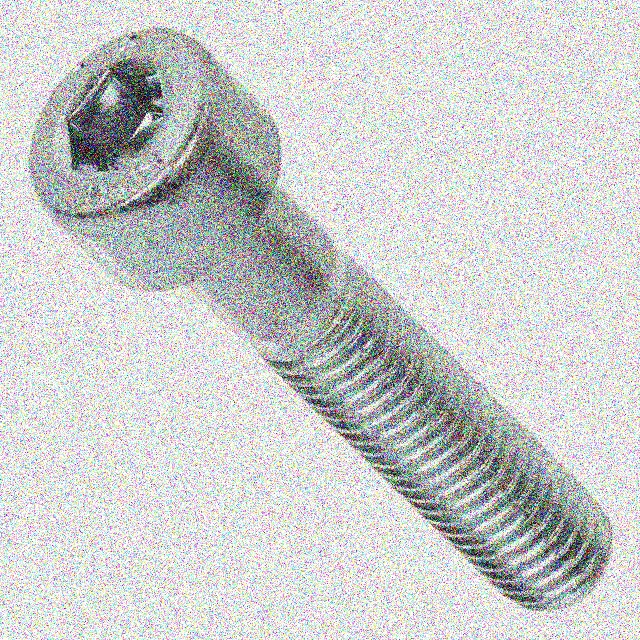allen: (61, 59, 169, 176)
